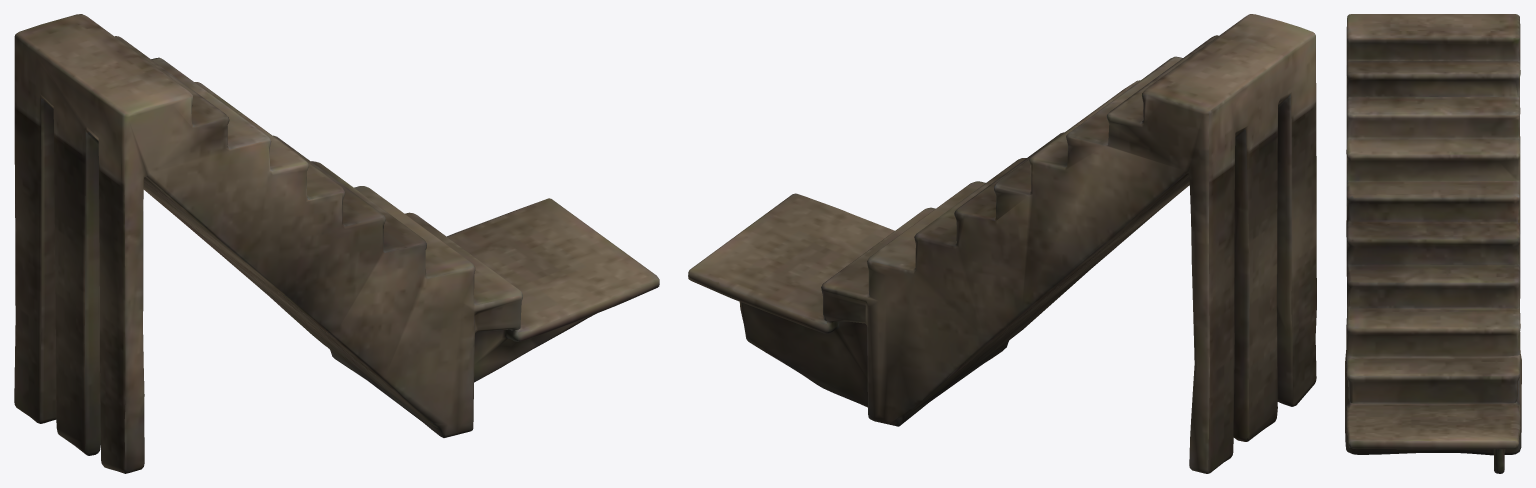
Rendered from sturdy-wood-straight-staircase-v001.glb.
3 renders of one model, left to right at view 1: azimuth 30°, elevation 25°; view 2: azimuth 150°, elevation 25°; view 3: azimuth 270°, elevation 25°, orthographic. The views are drawn at different scales.
Parts seen in each view (by area): view 1: sturdy-wood-straight-staircase; view 2: sturdy-wood-straight-staircase; view 3: sturdy-wood-straight-staircase.
Part boxes in pixels (<box>): sturdy-wood-straight-staircase: <box>14,14,659,473</box>; sturdy-wood-straight-staircase: <box>688,14,1316,473</box>; sturdy-wood-straight-staircase: <box>1345,14,1521,473</box>.
Bounding box in the file's own units: 1.36 × 0.989 × 0.5057.
Materials: 1 (1 with a texture image).
